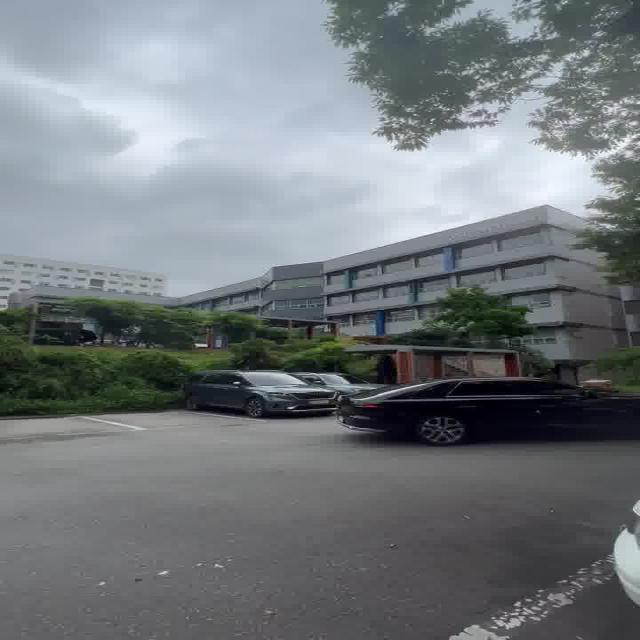building: (256, 215, 588, 325)
